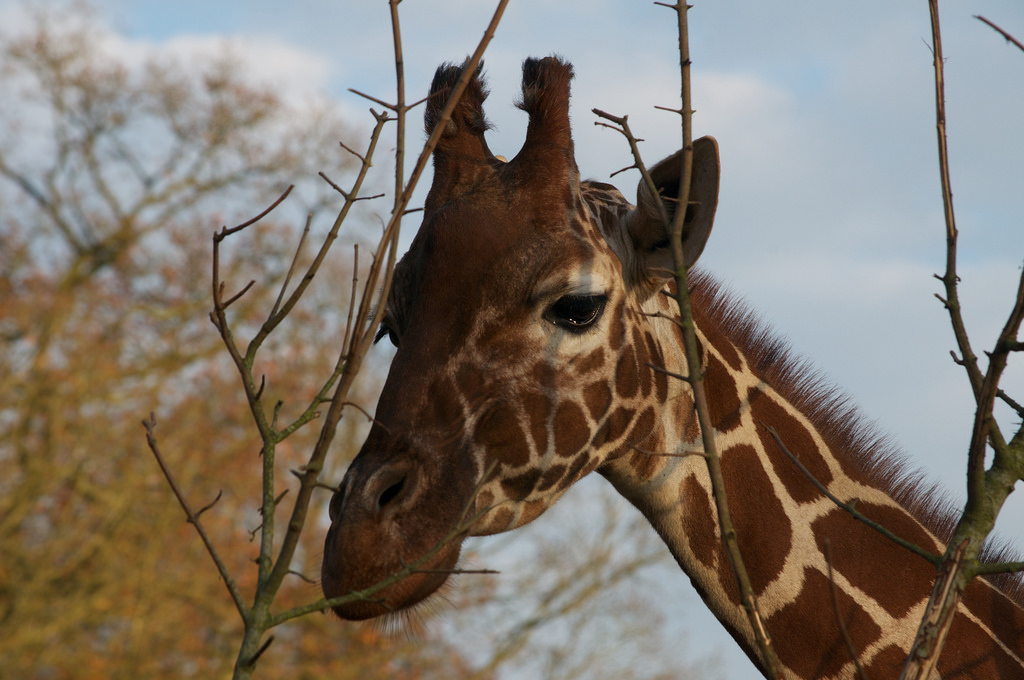giraffe: (303, 47, 987, 673)
